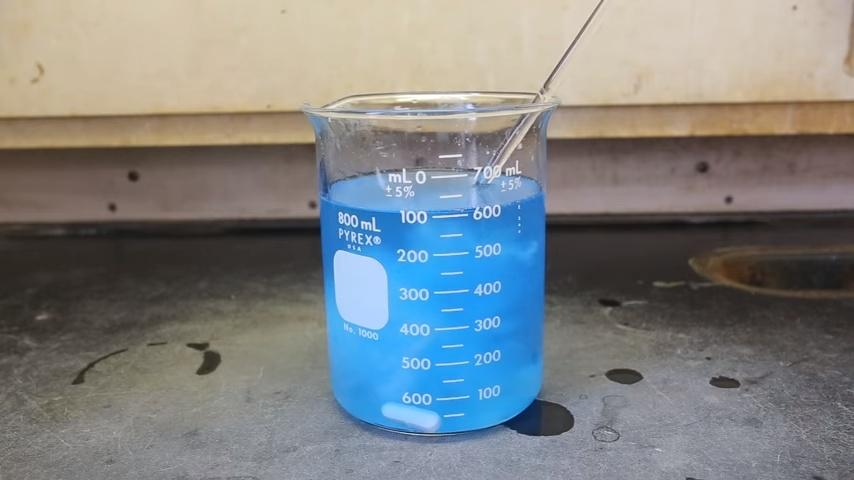Beaker: (290, 86, 560, 436)
